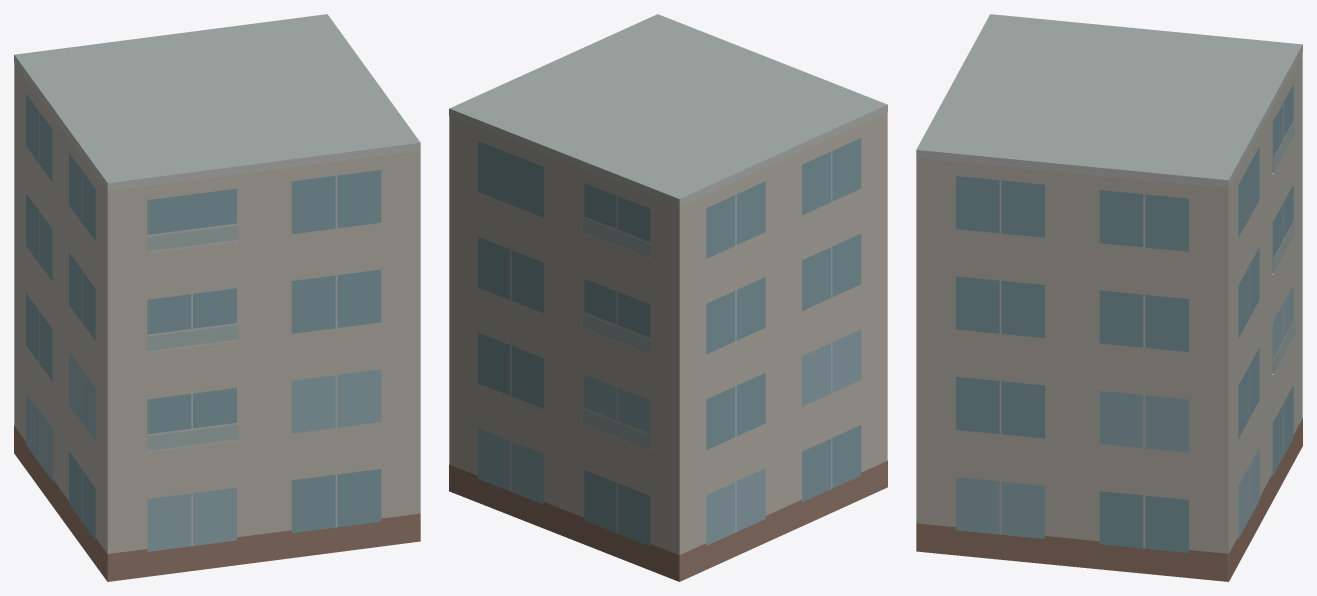
The model's file is residential-e32379ef-5460-4725-bbb1-34900c7408f2.glb.
3 renders of one model, left to right at view 1: azimuth 30°, elevation 25°; view 2: azimuth 150°, elevation 25°; view 3: azimuth 270°, elevation 25°, orthographic. The views are drawn at different scales.
Visible parts, largest first — view 1: residential-e32379ef-5460-4725-bbb1-34900c7408f2.tmp; view 2: residential-e32379ef-5460-4725-bbb1-34900c7408f2.tmp; view 3: residential-e32379ef-5460-4725-bbb1-34900c7408f2.tmp.
Boxes of the visible parts, left/top/right/bottom form: residential-e32379ef-5460-4725-bbb1-34900c7408f2.tmp: left=14, top=14, right=420, bottom=581; residential-e32379ef-5460-4725-bbb1-34900c7408f2.tmp: left=449, top=14, right=887, bottom=581; residential-e32379ef-5460-4725-bbb1-34900c7408f2.tmp: left=916, top=14, right=1302, bottom=581.
Bounding box in the file's own units: 10.84 × 12.2 × 10.65.
